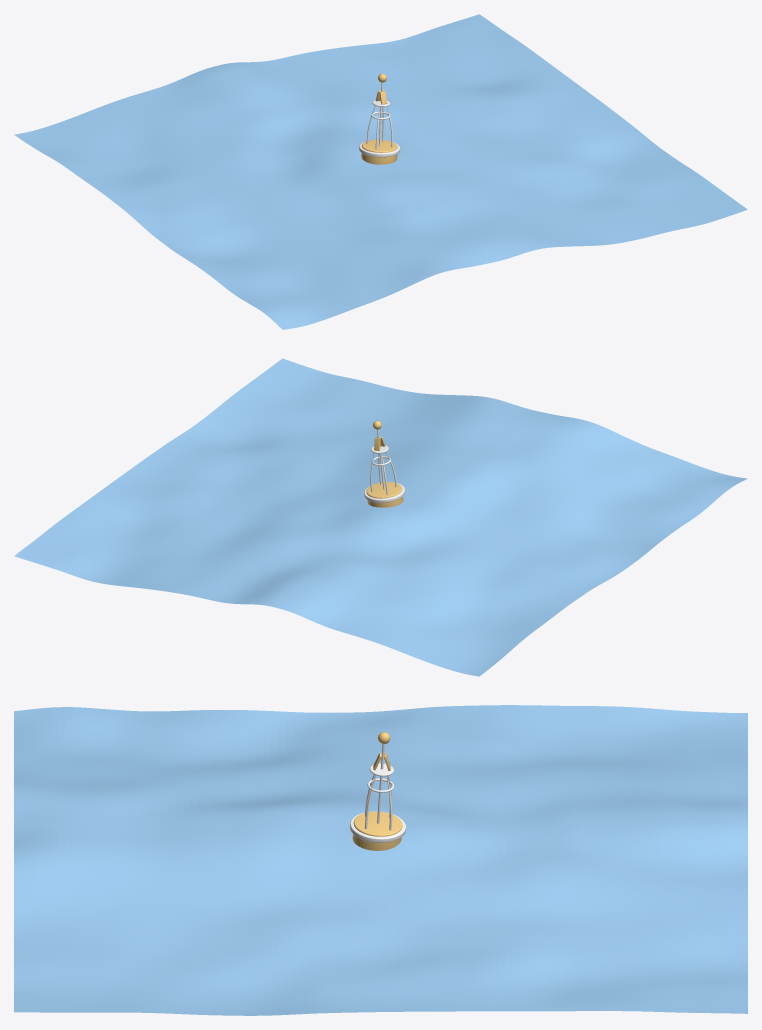
The model's file is buoy.fbx.
3 renders of one model, top to bottom at view 1: azimuth 30°, elevation 25°; view 2: azimuth 150°, elevation 25°; view 3: azimuth 270°, elevation 25°, orthographic. The views are drawn at different scales.
Visible parts, largest first — view 1: 平面_1, 圆柱; view 2: 平面_1, 圆柱; view 3: 平面_1, 圆柱, 圆柱_1.
Boxes of the visible parts, x1,y1,x2,y2 form: 平面_1: [14, 14, 747, 329]; 圆柱: [361, 139, 397, 164]; 平面_1: [14, 358, 747, 676]; 圆柱: [366, 482, 403, 507]; 平面_1: [14, 705, 747, 1015]; 圆柱: [352, 811, 402, 850]; 圆柱_1: [349, 811, 405, 842].
Size of the model in its own units: 600 by 126 by 600.
